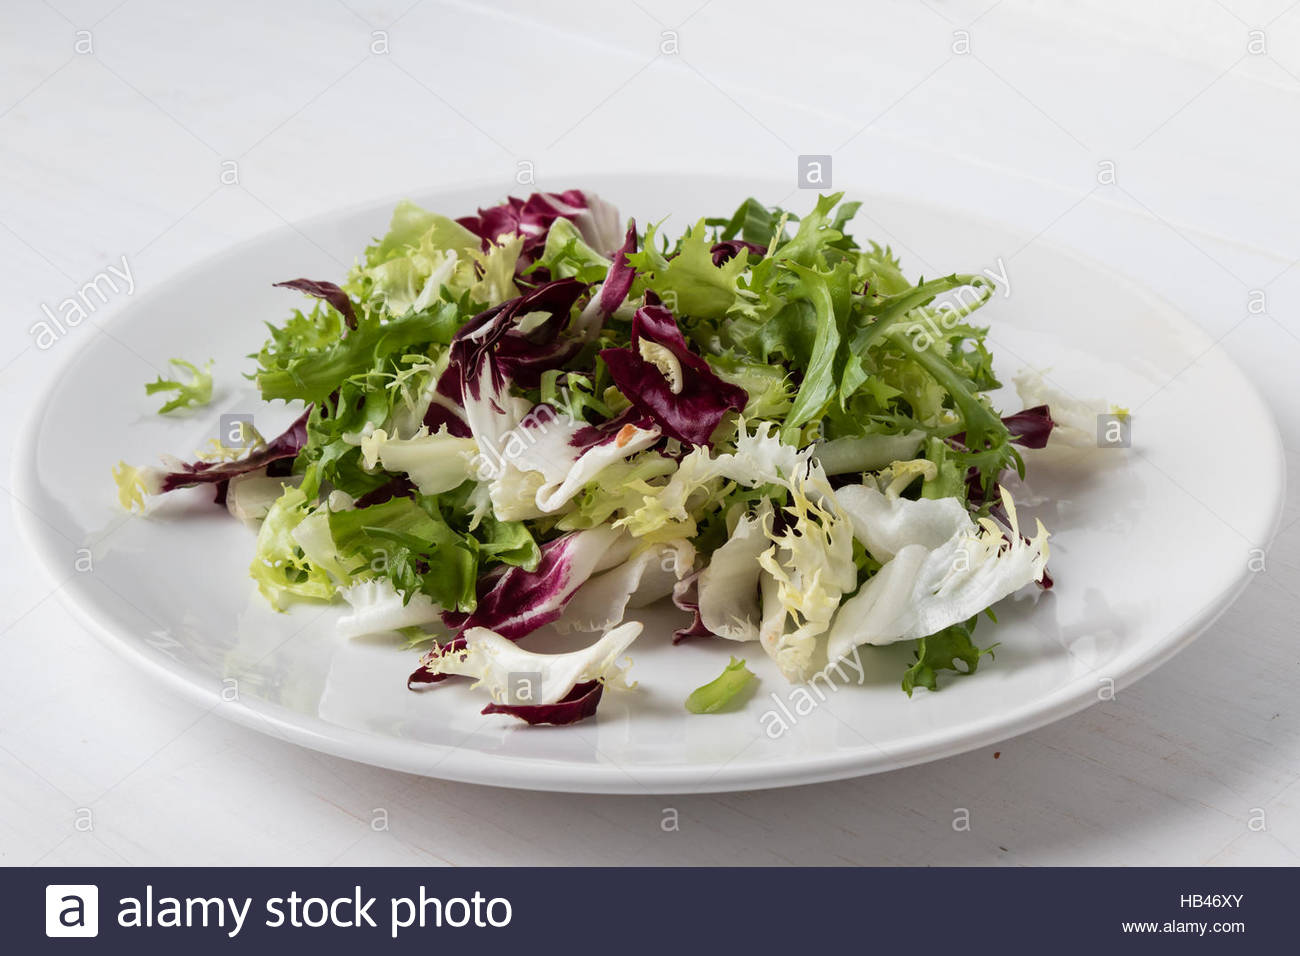chopped lettuce: (294, 191, 1015, 681)
